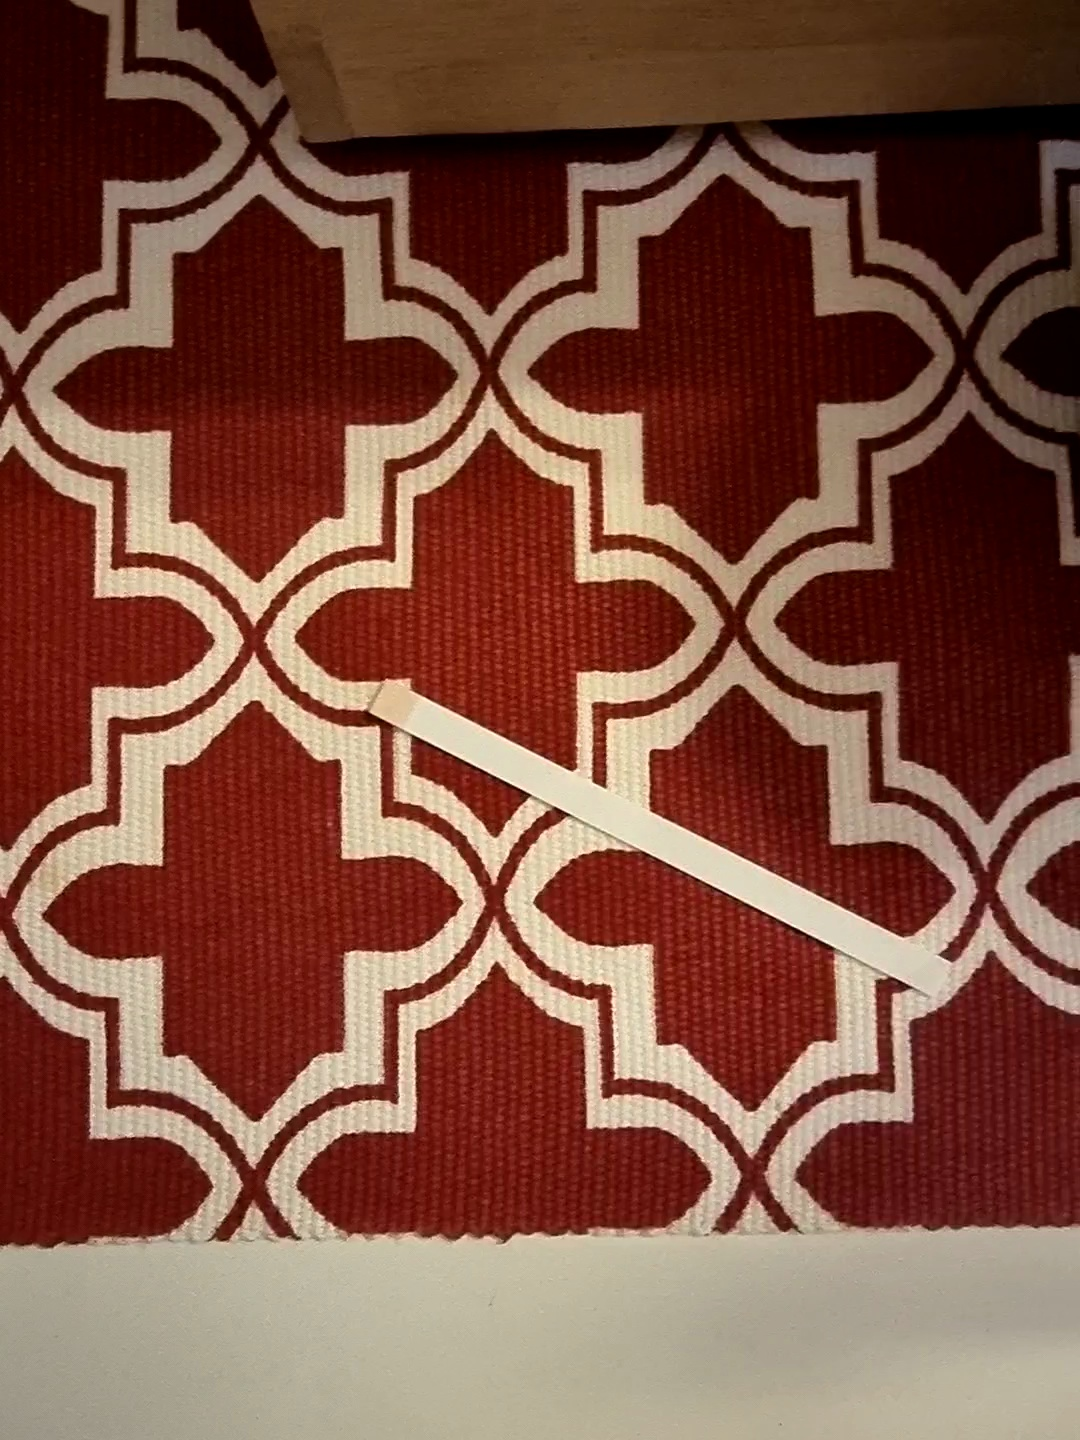keto-tip: (365, 676, 422, 732)
